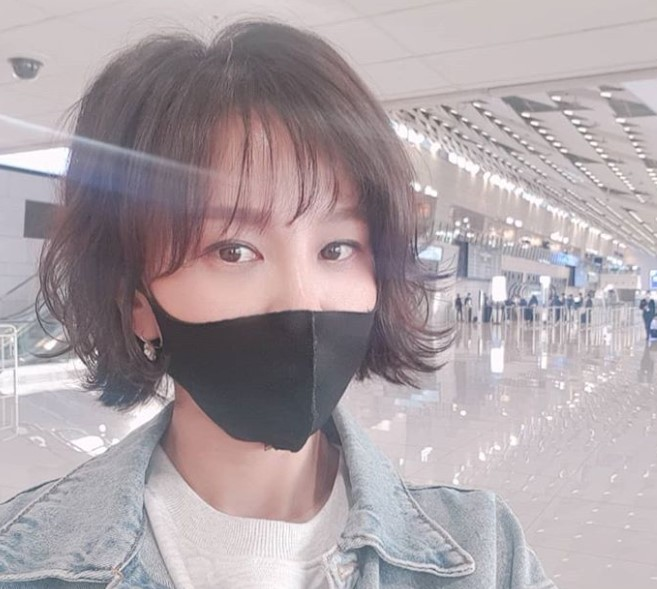face_with_mask: (113, 40, 402, 461)
